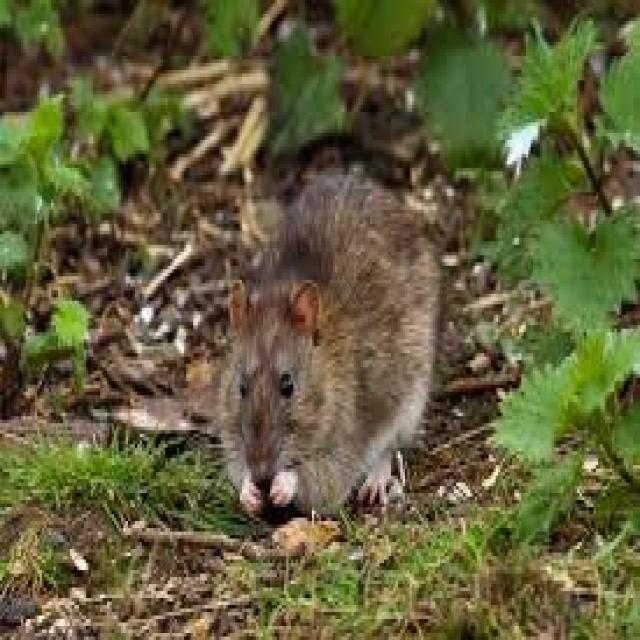Rat: (216, 103, 454, 530)
